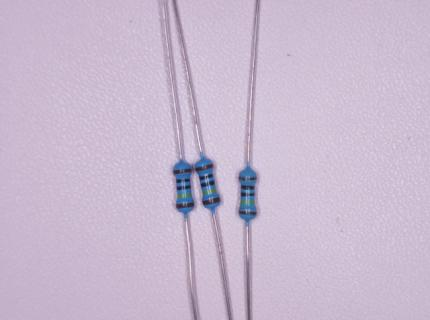Black band: (199, 172, 214, 181), (201, 181, 216, 189), (176, 185, 191, 191), (176, 178, 190, 184), (240, 192, 255, 197), (241, 186, 255, 191)
Brown band: (202, 196, 220, 205), (176, 202, 195, 210), (195, 164, 214, 172), (172, 169, 192, 175), (238, 175, 257, 181), (239, 211, 257, 216)
Yellow band: (176, 192, 192, 199), (201, 188, 216, 195), (240, 200, 255, 205)
